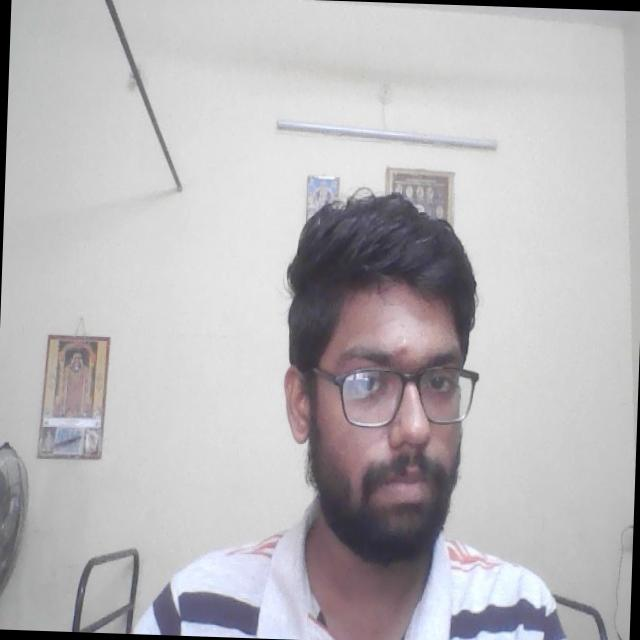Focused: (287, 278, 483, 536)
